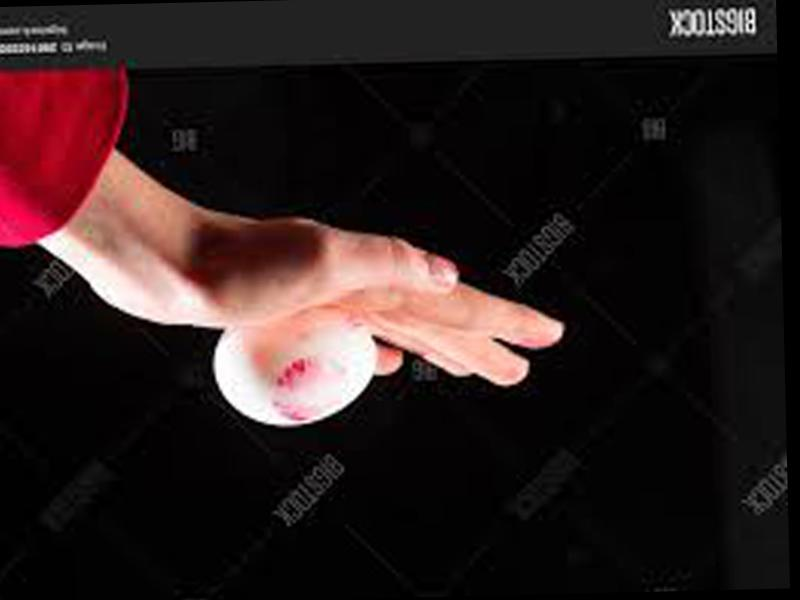Eggs: (210, 316, 373, 428)
